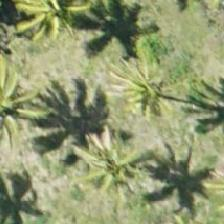coconut_tree: (103, 47, 193, 137), (70, 124, 160, 214)
